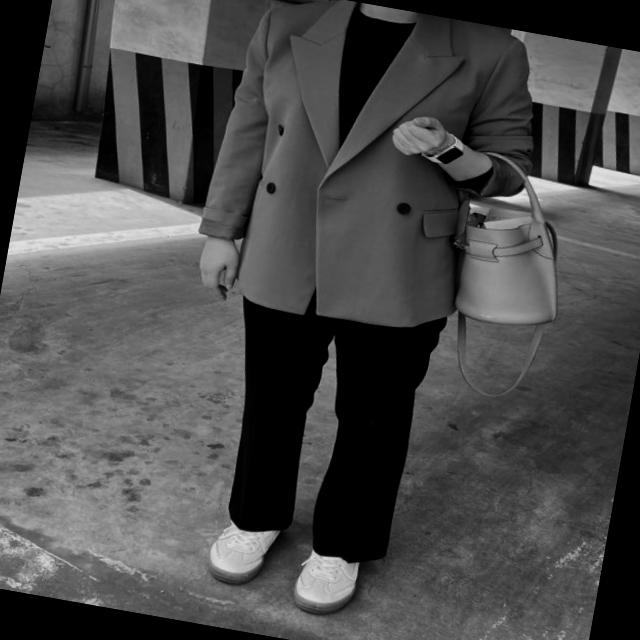blazer: (181, 0, 550, 349)
slacks: (199, 246, 451, 568)
